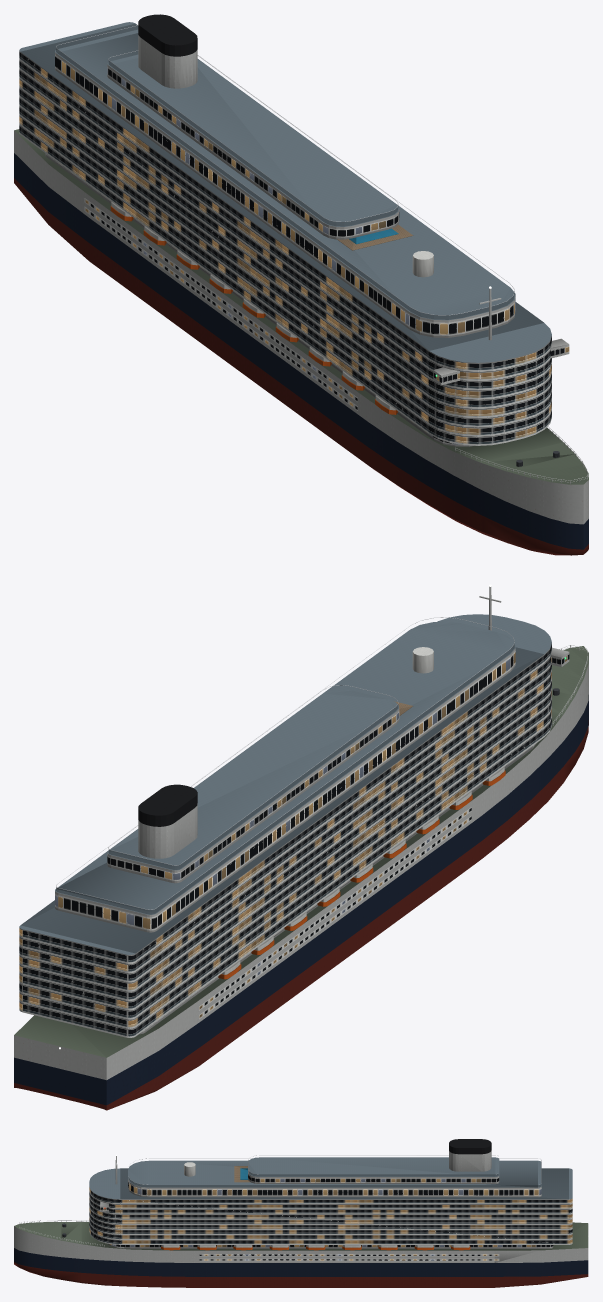
Rendered from boats.glb.
3 renders of one model, top to bottom at view 1: azimuth 30°, elevation 25°; view 2: azimuth 150°, elevation 25°; view 3: azimuth 270°, elevation 25°, orthographic. The views are drawn at different scales.
Parts seen in each view (by area): view 1: cruise_ship_body, cruise_ship_glass; view 2: cruise_ship_body, cruise_ship_glass; view 3: cruise_ship_body, cruise_ship_glass.
Part boxes in pixels (left/top/right/bottom): cruise_ship_body: left=14, top=14, right=588, bottom=555; cruise_ship_glass: left=56, top=48, right=514, bottom=319; cruise_ship_body: left=14, top=584, right=588, bottom=1110; cruise_ship_glass: left=56, top=644, right=514, bottom=914; cruise_ship_body: left=14, top=1139, right=588, bottom=1287; cruise_ship_glass: left=129, top=1172, right=540, bottom=1187.
Size of the model in its own units: 42.55 by 75.6 by 297.
Materials: 11 (10 with a texture image).
